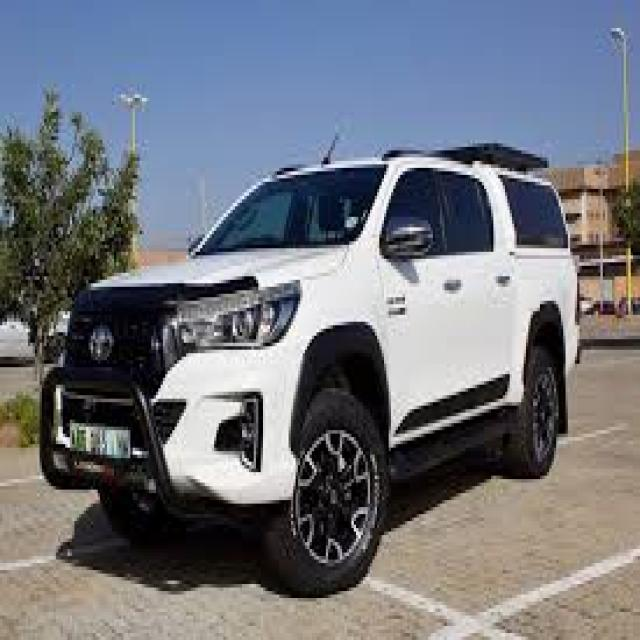Pickup Trucks: (39, 150, 580, 598)
